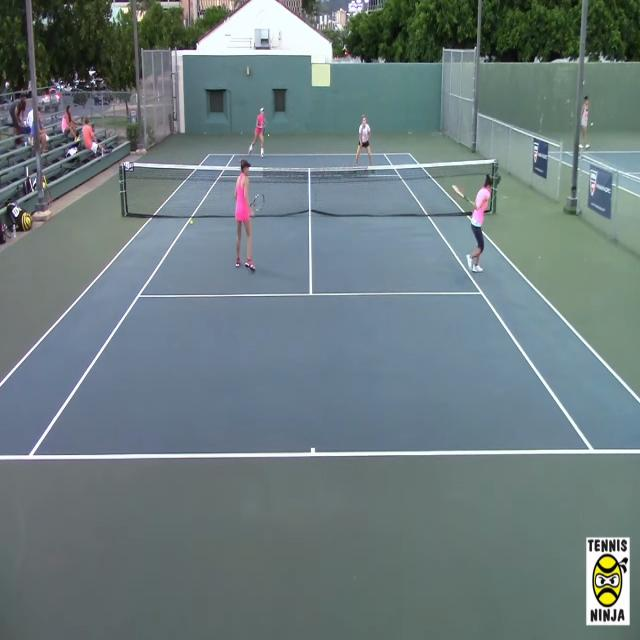ball: (190, 219, 193, 226), (267, 134, 270, 138), (240, 132, 242, 135)
